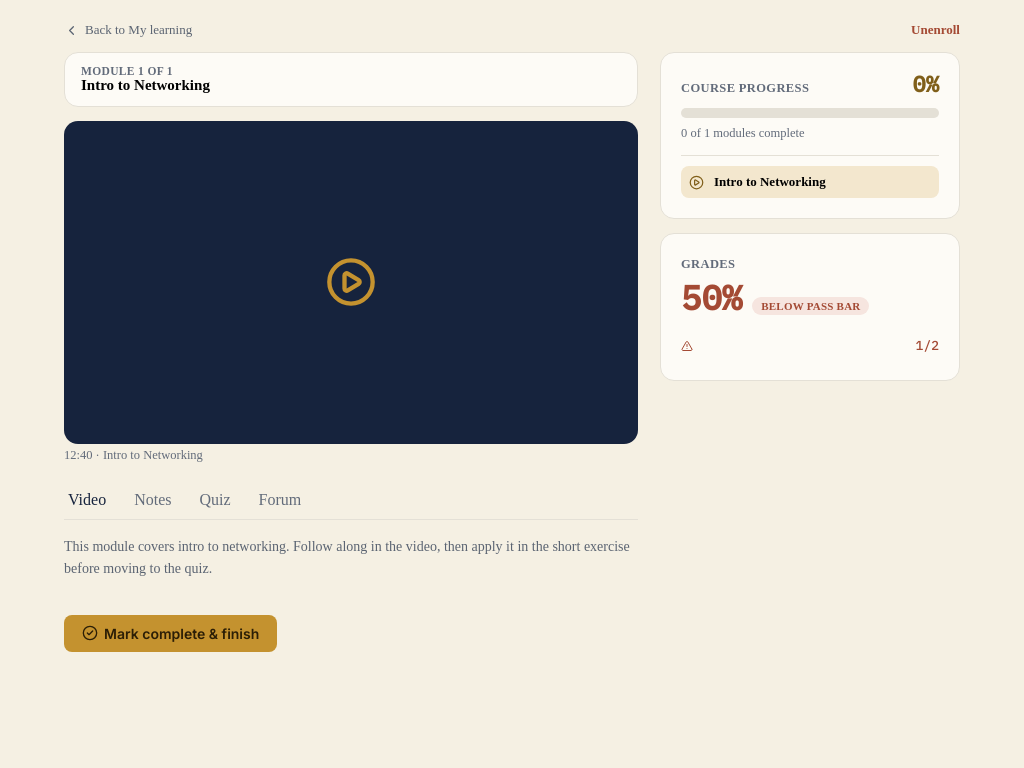
Test: LearningScreen — quiz retake (#239) › re-presents a blank, answerable form after clicking Retake quiz
This screenshot has width=1024, height=768.
Click the tab "quiz". click: (215, 500)
box: [196,481,235,519]
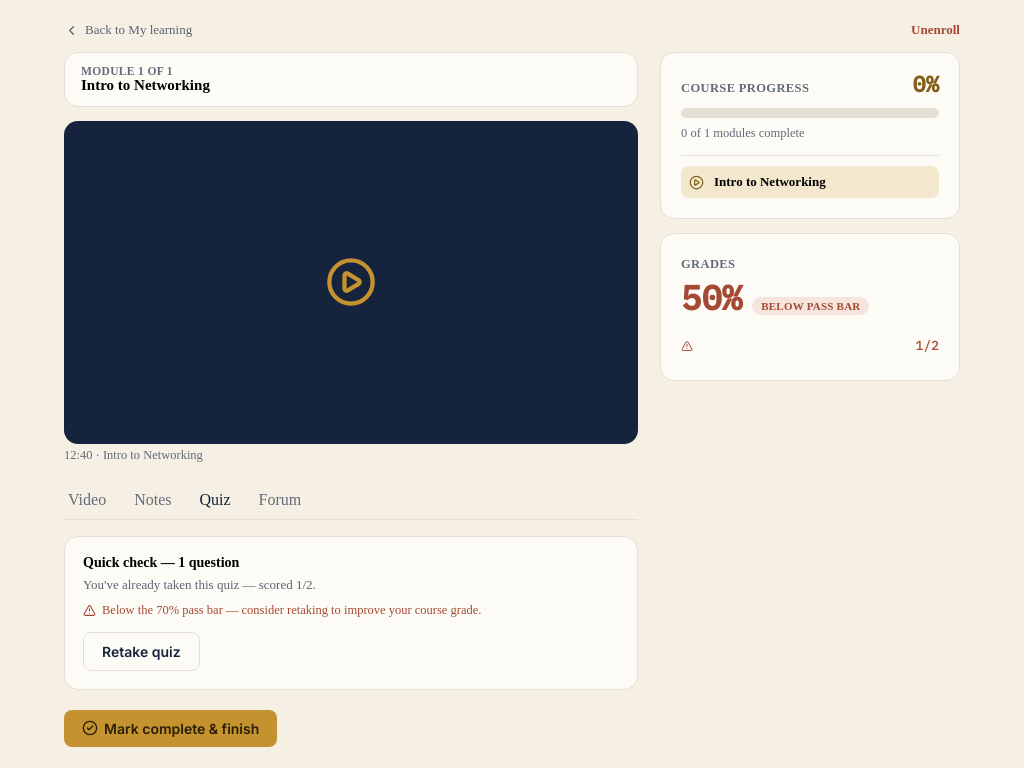
Click the button "Retake quiz". click: (141, 651)
box: [83,632,200,671]
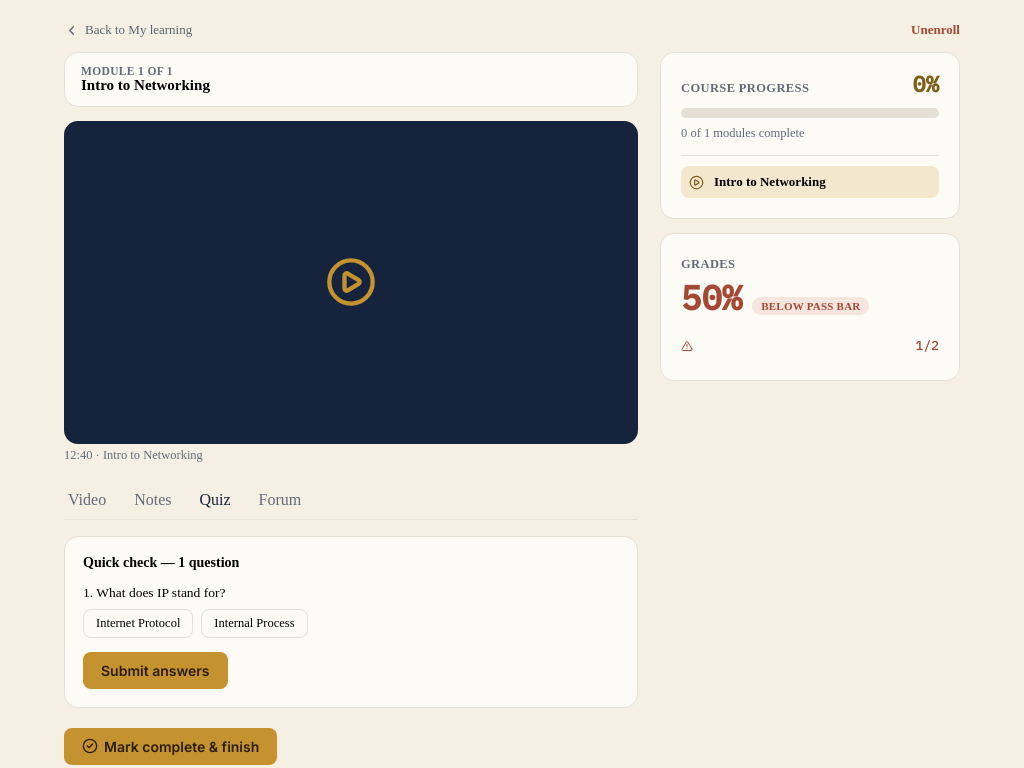
Result: the button "Submit answers" is shown at [83,652,228,689]
Result: the text "You've already taken this quiz" is gone
